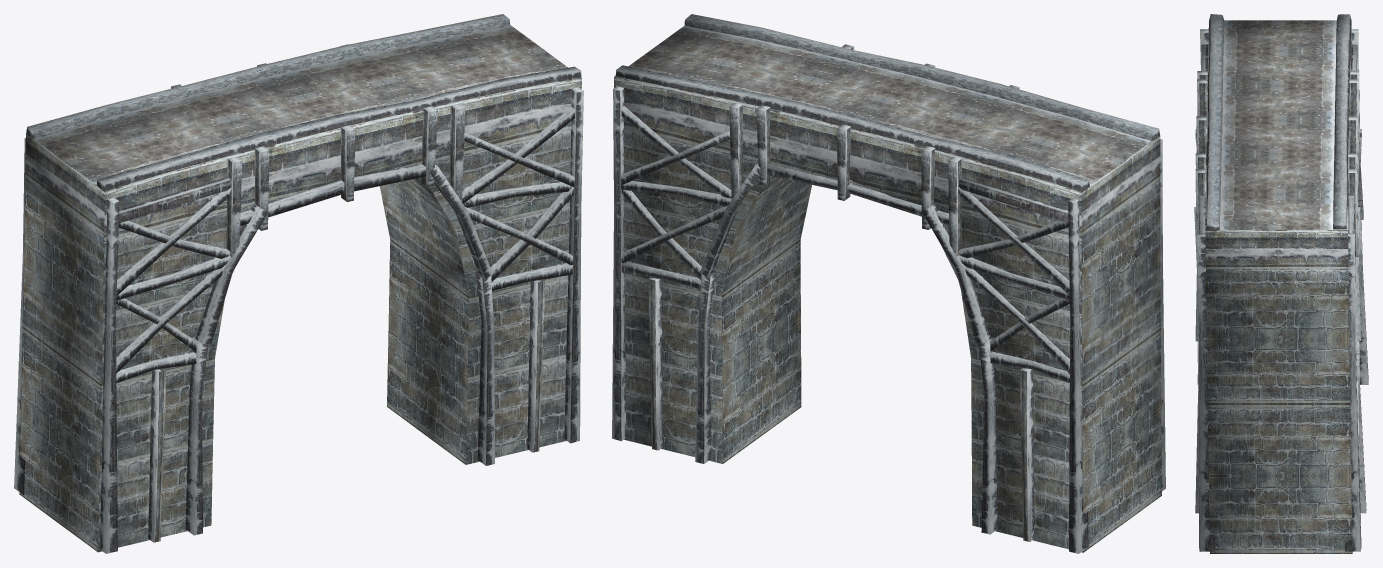
Rendered from S_Build_Snowland175.FBX.
The picture shows the model from 3 angles, left to right: view 1: azimuth 30°, elevation 25°; view 2: azimuth 150°, elevation 25°; view 3: azimuth 270°, elevation 25°; orthographic projection. The views are drawn at different scales.
Parts seen in each view (by area): view 1: S_Build_Snowland175; view 2: S_Build_Snowland175; view 3: S_Build_Snowland175.
Part boxes in pixels (left/top/right/bottom): S_Build_Snowland175: left=14, top=14, right=583, bottom=553; S_Build_Snowland175: left=612, top=14, right=1165, bottom=553; S_Build_Snowland175: left=1194, top=14, right=1368, bottom=553.
Bounding box in the file's own units: 2378 × 832 × 1783.
